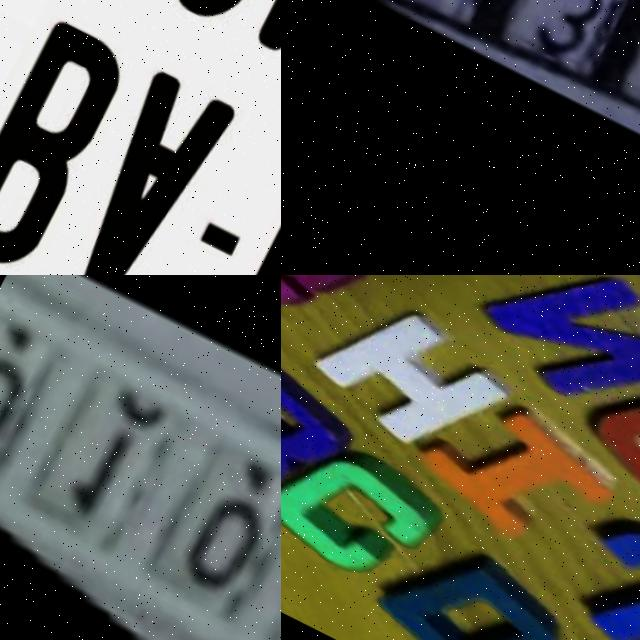0: (144, 471, 281, 621), (0, 332, 43, 476)
1: (38, 414, 152, 543)
3: (509, 0, 613, 78)
A: (30, 60, 253, 275)
B: (0, 12, 146, 275), (281, 326, 367, 524)
C: (281, 427, 447, 608)
D: (356, 518, 581, 640)
H: (293, 277, 525, 488)
I: (398, 378, 622, 579)
J: (550, 513, 640, 640)
N: (463, 275, 640, 454)
O: (573, 357, 640, 550)
P: (187, 146, 281, 275)
